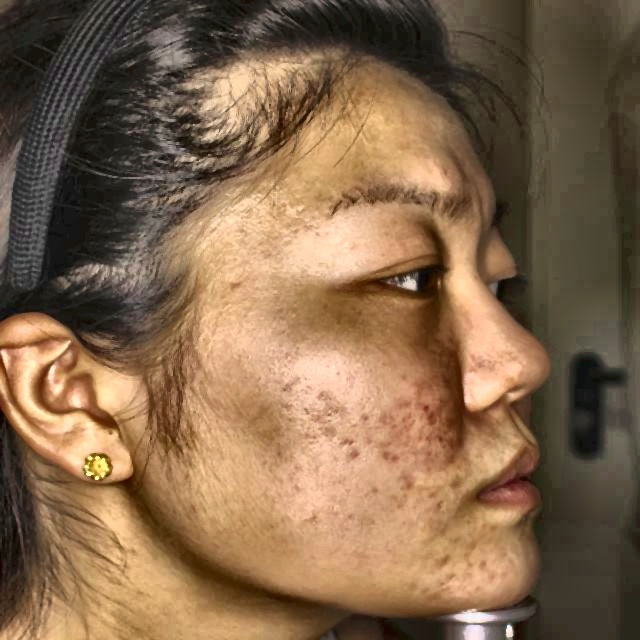comedone: (429, 418, 459, 461), (411, 400, 447, 424)
